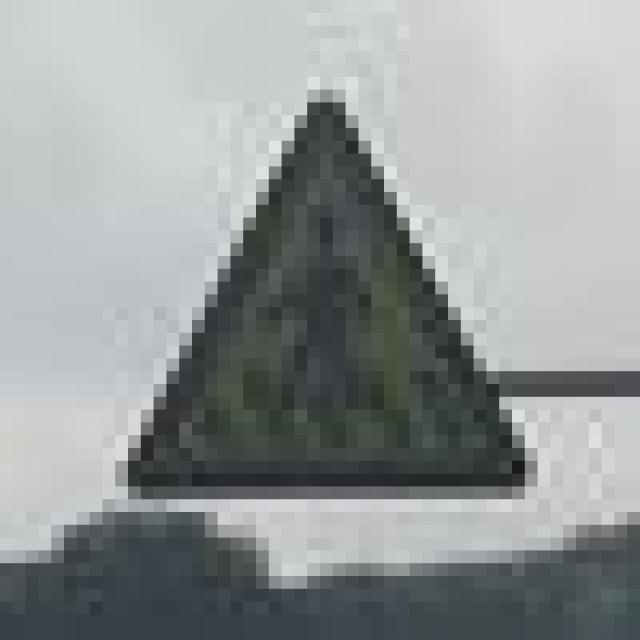PEDESTRIAN_CROSSING: (102, 77, 525, 486)
